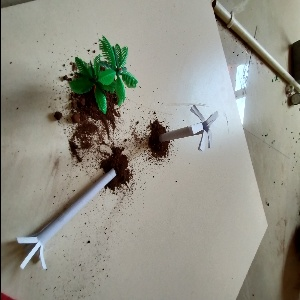plant: (56, 34, 134, 118)
weed: (12, 169, 128, 268), (154, 101, 221, 156)
